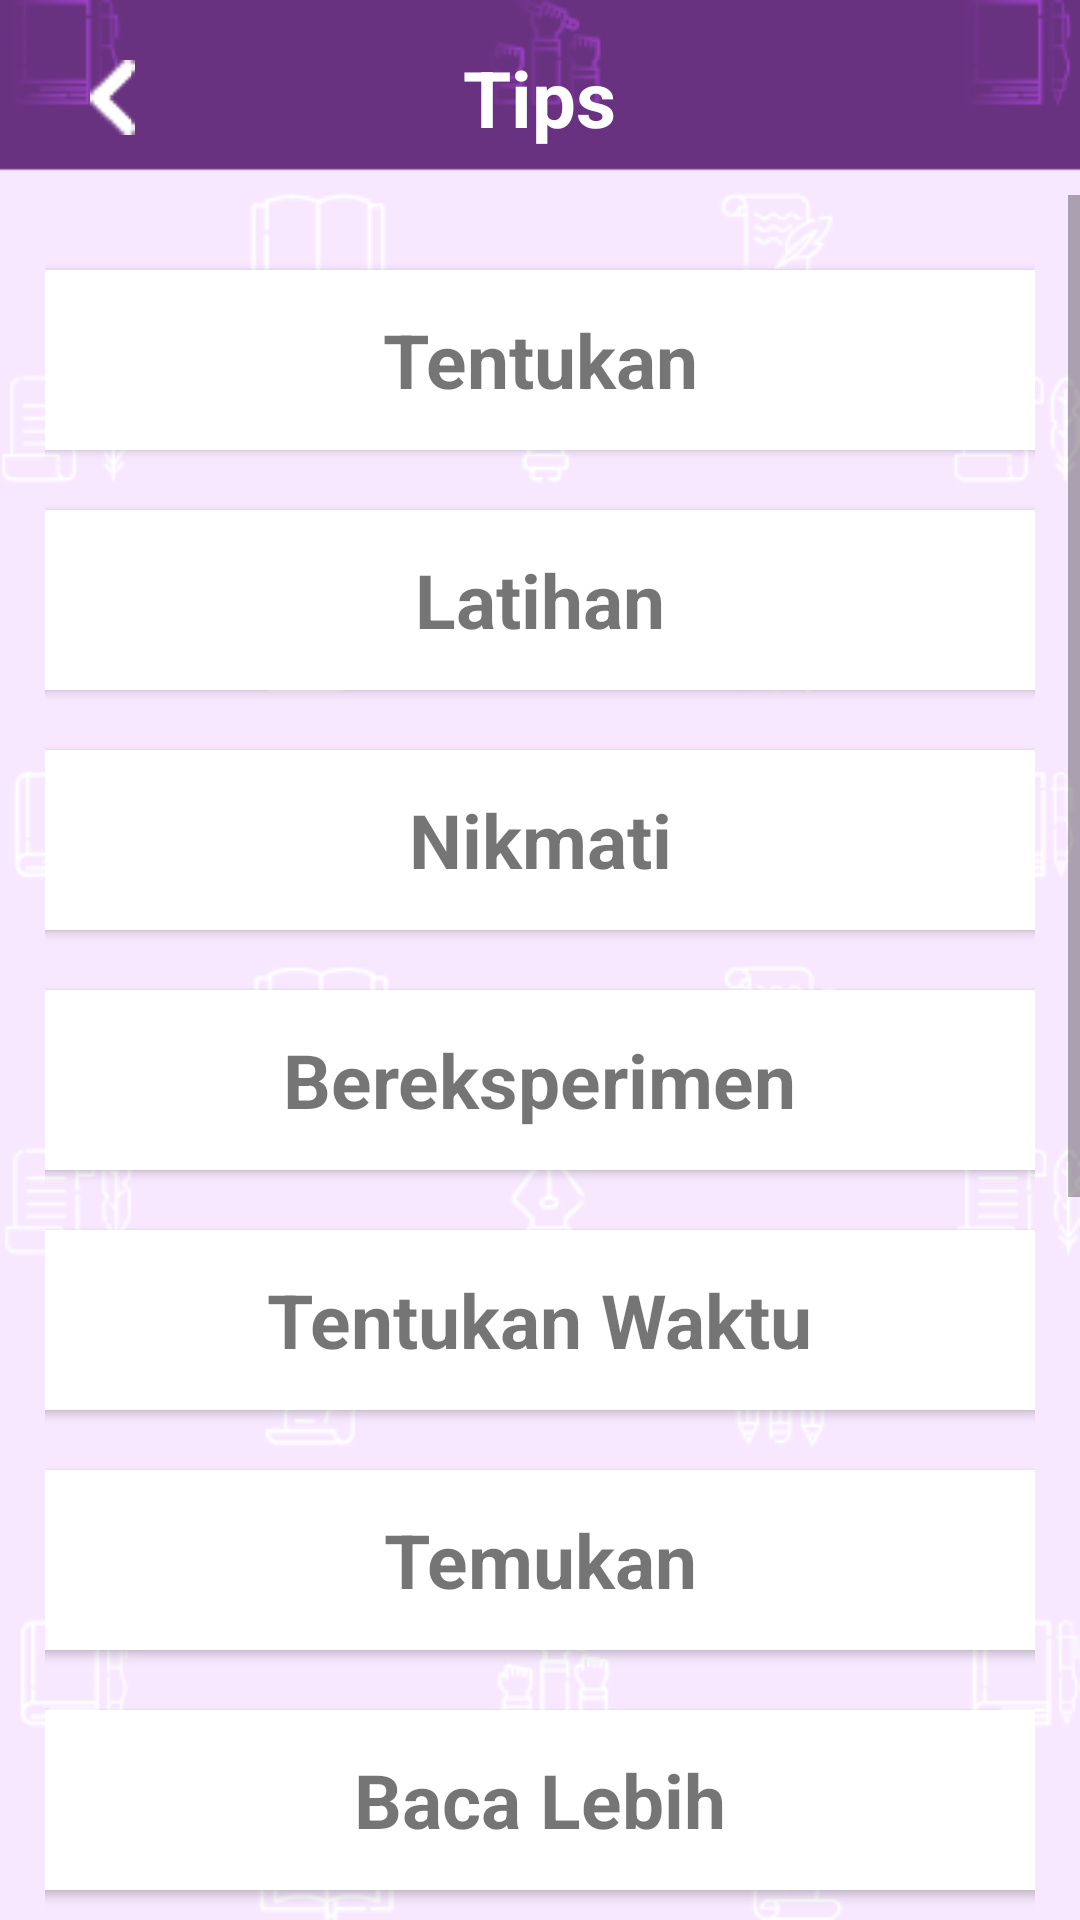

Where to tap for icons on this 1080px x 1920px app screen, as point (x, y):
btnback: point (112, 97)
